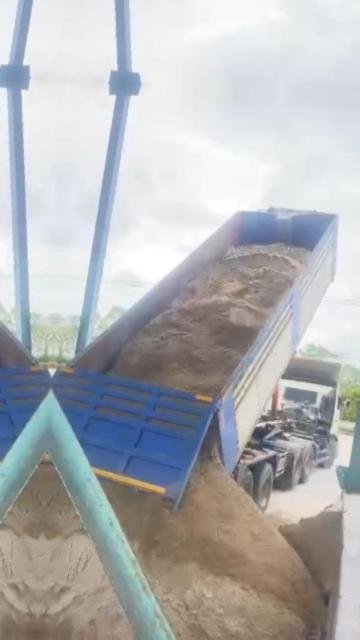sand: (106, 442, 323, 640), (112, 244, 307, 395), (37, 468, 132, 639), (280, 500, 341, 596)
